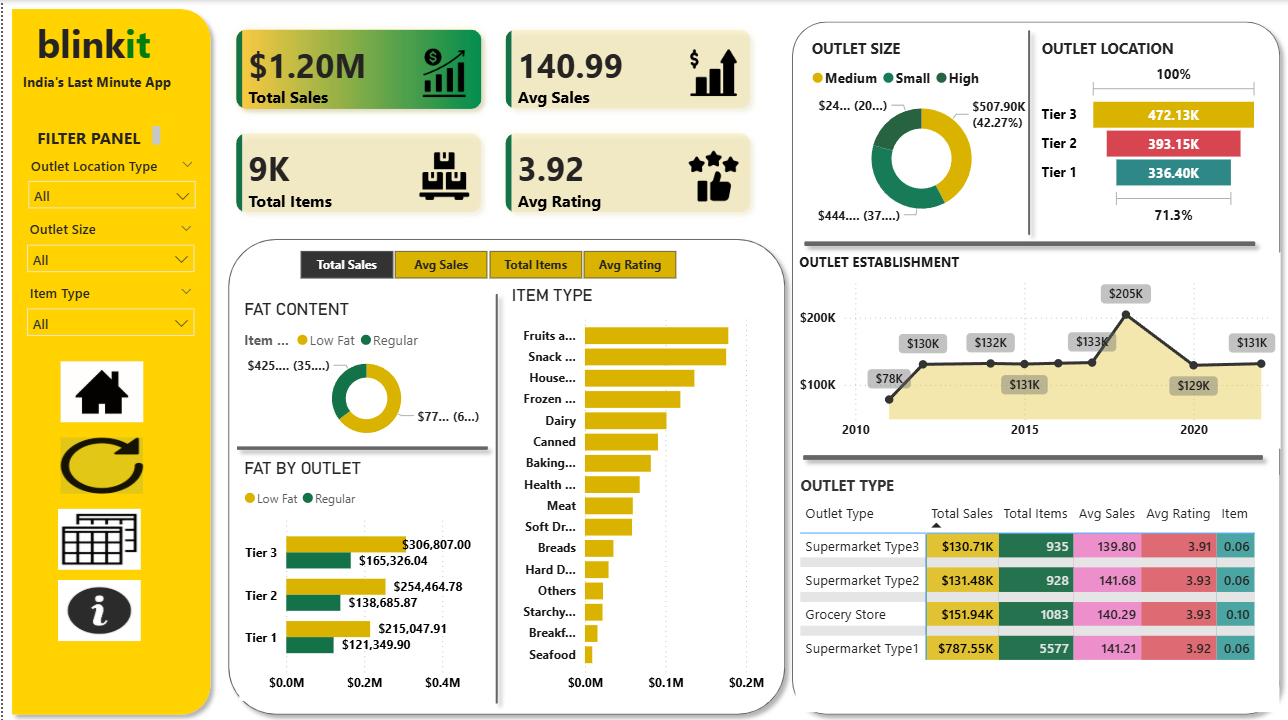

What the dashboard file says about the page in this screenshot:
{"tool":"powerbi","page":{"name":"Page 1","canvas":[1280,720],"ordinal":0},"visuals":[{"type":"shape","box":[0,0,215.4,720.4],"z":0},{"type":"textbox","box":[15.1,67.2,185.2,28.8],"z":1000},{"type":"textbox","box":[28.8,12.3,157.8,70],"z":2000},{"type":"cardVisual","fields":{"Data":["BlinkIT Grocery Data.Total Sales","BlinkIT Grocery Data.Avg Sales","BlinkIT Grocery Data.Total Items","BlinkIT Grocery Data.Avg Rating"]},"box":[215.2,12.4,547.3,216.4],"z":3000},{"type":"shape","box":[215.2,228.9,572.2,491.4],"z":4000},{"type":"slicer","fields":{"Values":["Parameter.Parameter"]},"box":[269.9,242.6,424.2,41.1],"z":5000},{"type":"donutChart","title":"FAT CONTENT ","fields":{"Y":["BlinkIT Grocery Data.Total Sales"],"Category":["BlinkIT Grocery Data.Item Fat Content"]},"box":[235.1,297.3,253.8,148],"z":6000},{"type":"clusteredBarChart","title":"FAT BY OUTLET","fields":{"Y":["BlinkIT Grocery Data.Total Sales"],"Category":["BlinkIT Grocery Data.Outlet Location Type"],"Series":["BlinkIT Grocery Data.Item Fat Content"]},"box":[235.1,455.3,253.8,242.6],"z":7000},{"type":"barChart","title":"ITEM TYPE ","fields":{"Y":["BlinkIT Grocery Data.Total Sales"],"Category":["BlinkIT Grocery Data.Item Type"]},"box":[501.3,283.6,261.2,414.2],"z":8000},{"type":"shape","box":[481.4,283.6,19.9,425.4],"z":9000},{"type":"shape","box":[788.7,228.9,466.5,22.4],"z":10000},{"type":"shape","box":[776.2,12.4,503.8,707.8],"z":11000},{"type":"donutChart","title":"OUTLET SIZE","fields":{"Category":["BlinkIT Grocery Data.Outlet Size"],"Y":["BlinkIT Grocery Data.Total Sales"]},"box":[799.9,37.3,228.9,191.6],"z":12000},{"type":"funnel","title":"OUTLET LOCATION","fields":{"Category":["BlinkIT Grocery Data.Outlet Location Type"],"Y":["Sum(BlinkIT Grocery Data.Sales)"]},"box":[1028.8,37.3,226.4,191.6],"z":13000},{"type":"lineChart","title":"OUTLET ESTABLISHMENT","fields":{"Y":["BlinkIT Grocery Data.Total Sales"],"Category":["BlinkIT Grocery Data.Outlet Establishment Year"]},"box":[787.4,251.3,483.9,195.3],"z":14000},{"type":"pivotTable","title":"OUTLET TYPE","fields":{"Rows":["BlinkIT Grocery Data.Outlet Type"],"Values":["BlinkIT Grocery Data.Total Sales","BlinkIT Grocery Data.Total Items","BlinkIT Grocery Data.Avg Sales","BlinkIT Grocery Data.Avg Rating","Avg(BlinkIT Grocery Data.Item Visibility)"]},"box":[788.7,472.7,481.4,236.4],"z":15000},{"type":"shape","box":[1011.3,21.1,19.9,221.4],"z":16000},{"type":"shape","box":[223.9,435.4,267.5,21.1],"z":17000},{"type":"shape","box":[788.7,231.4,466.5,22.4],"z":18000},{"type":"shape","box":[787.4,444.1,475.2,22.4],"z":19000},{"type":"slicer","fields":{"Values":["BlinkIT Grocery Data.Outlet Location Type"]},"box":[14.9,150.5,186.6,63.4],"z":20000},{"type":"slicer","fields":{"Values":["BlinkIT Grocery Data.Outlet Size"]},"box":[13.7,214,186.6,63.4],"z":21000},{"type":"slicer","fields":{"Values":["BlinkIT Grocery Data.Item Type"]},"box":[13.7,277.4,186.6,58.5],"z":22000},{"type":"textbox","box":[28.6,120.7,133.1,29.9],"z":23000},{"type":"actionButton","box":[57.2,359.5,82.1,61],"z":24000},{"type":"actionButton","box":[57.2,435.4,82.1,56],"z":25000},{"type":"actionButton","box":[54.7,506.3,82.1,61],"z":26000},{"type":"actionButton","box":[54.7,577.2,82.1,61],"z":27000}]}

Visuals, with their boxes in screenshot pixels (x1, y1, x2, y2), scaled from the page's 1280x720 canvas onto the 1288x720 screenshot:
shape: 0/0/217/719
textbox: 15/67/202/96
textbox: 29/12/188/82
cardVisual - BlinkIT Grocery Data.Total Sales x BlinkIT Grocery Data.Avg Sales: 217/12/767/229
shape: 217/229/792/719
slicer - Parameter.Parameter: 272/243/698/284
"FAT CONTENT " donutChart: 237/297/492/445
"FAT BY OUTLET" clusteredBarChart: 237/455/492/698
"ITEM TYPE " barChart: 504/284/767/698
shape: 484/284/504/709
shape: 794/229/1263/251
shape: 781/12/1287/719
"OUTLET SIZE" donutChart: 805/37/1035/229
"OUTLET LOCATION" funnel: 1035/37/1263/229
"OUTLET ESTABLISHMENT" lineChart: 792/251/1279/447
"OUTLET TYPE" pivotTable: 794/473/1278/709
shape: 1018/21/1038/242
shape: 225/435/494/456
shape: 794/231/1263/254
shape: 792/444/1270/466
slicer - BlinkIT Grocery Data.Outlet Location Type: 15/150/203/214
slicer - BlinkIT Grocery Data.Outlet Size: 14/214/202/277
slicer - BlinkIT Grocery Data.Item Type: 14/277/202/336
textbox: 29/121/163/151
actionButton: 58/360/140/420
actionButton: 58/435/140/491
actionButton: 55/506/138/567
actionButton: 55/577/138/638
